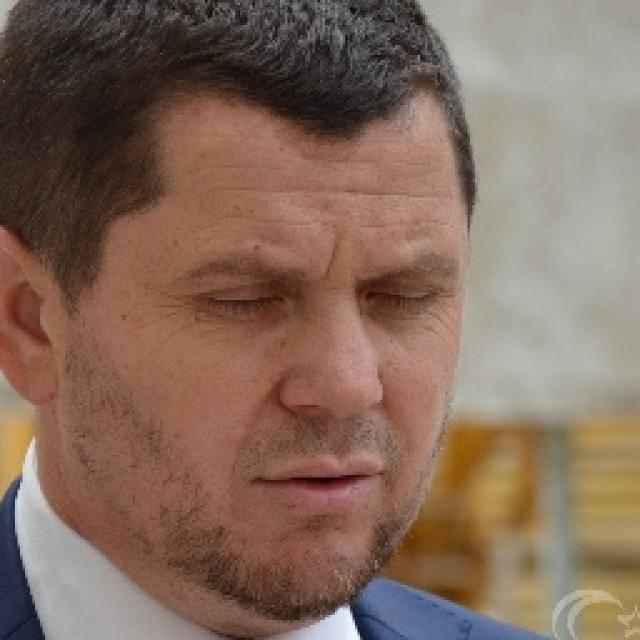earlobe: (0, 223, 60, 405)
